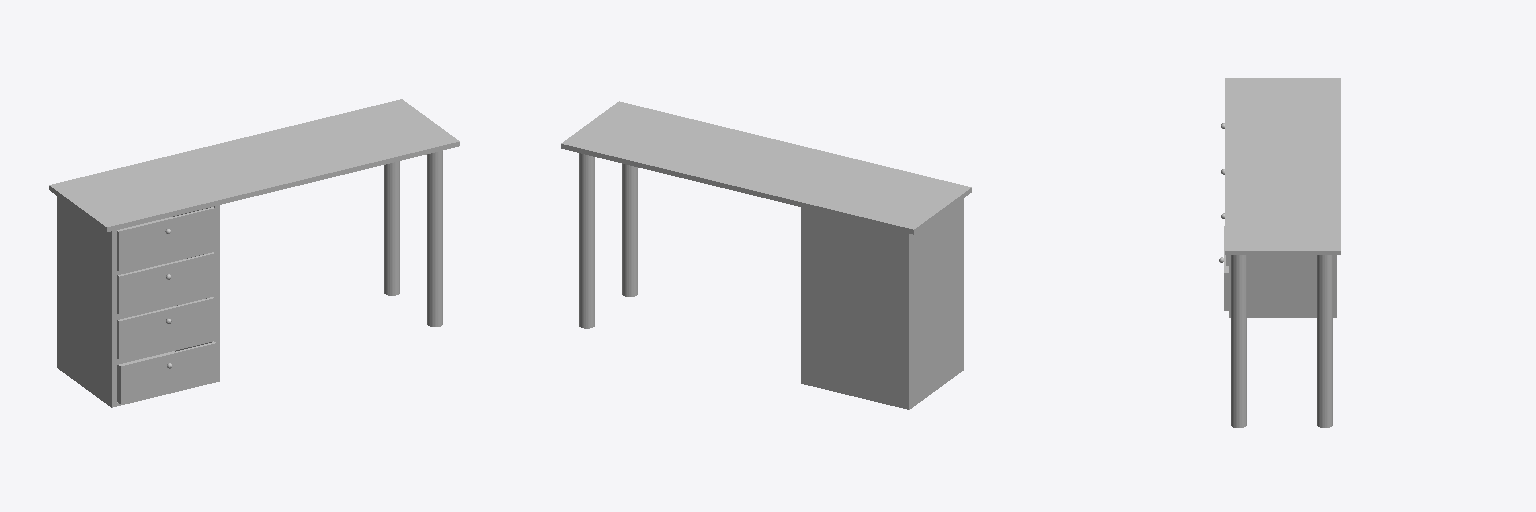
3 views of the same model, side by side, from view 1: azimuth 30°, elevation 25°; view 2: azimuth 150°, elevation 25°; view 3: azimuth 270°, elevation 25° (orthographic).
Visible parts, largest first — view 1: Desk.001_Cylinder.002, nogi_Cylinder.000, shelf1_Sphere.003, shelf4_Cube.005, shelf2_Cube.002, shelf3_Sphere.001; view 2: Desk.001_Cylinder.002, nogi_Cylinder.000; view 3: Desk.001_Cylinder.002, nogi_Cylinder.000.
Part boxes in pixels (left/top/right/bottom): Desk.001_Cylinder.002: left=49, top=99, right=459, bottom=407; nogi_Cylinder.000: left=384, top=151, right=442, bottom=326; shelf1_Sphere.003: left=117, top=207, right=214, bottom=270; shelf4_Cube.005: left=117, top=341, right=215, bottom=403; shelf2_Cube.002: left=117, top=252, right=214, bottom=314; shelf3_Sphere.001: left=117, top=297, right=214, bottom=359; Desk.001_Cylinder.002: left=561, top=101, right=971, bottom=409; nogi_Cylinder.000: left=579, top=153, right=637, bottom=328; Desk.001_Cylinder.002: left=1225, top=78, right=1340, bottom=317; nogi_Cylinder.000: left=1231, top=255, right=1332, bottom=427.
Bounding box in the file's own units: 9.92 × 4.92 × 2.97.